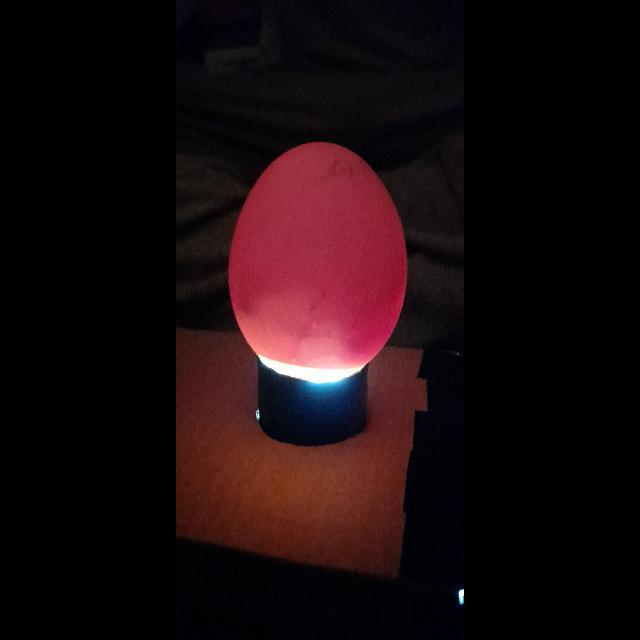Fertile: (223, 136, 414, 388)
